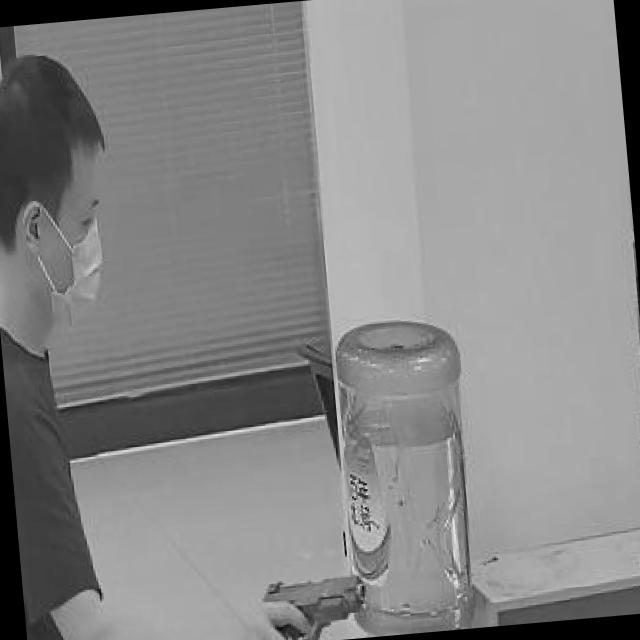Guns: (234, 549, 373, 640)
